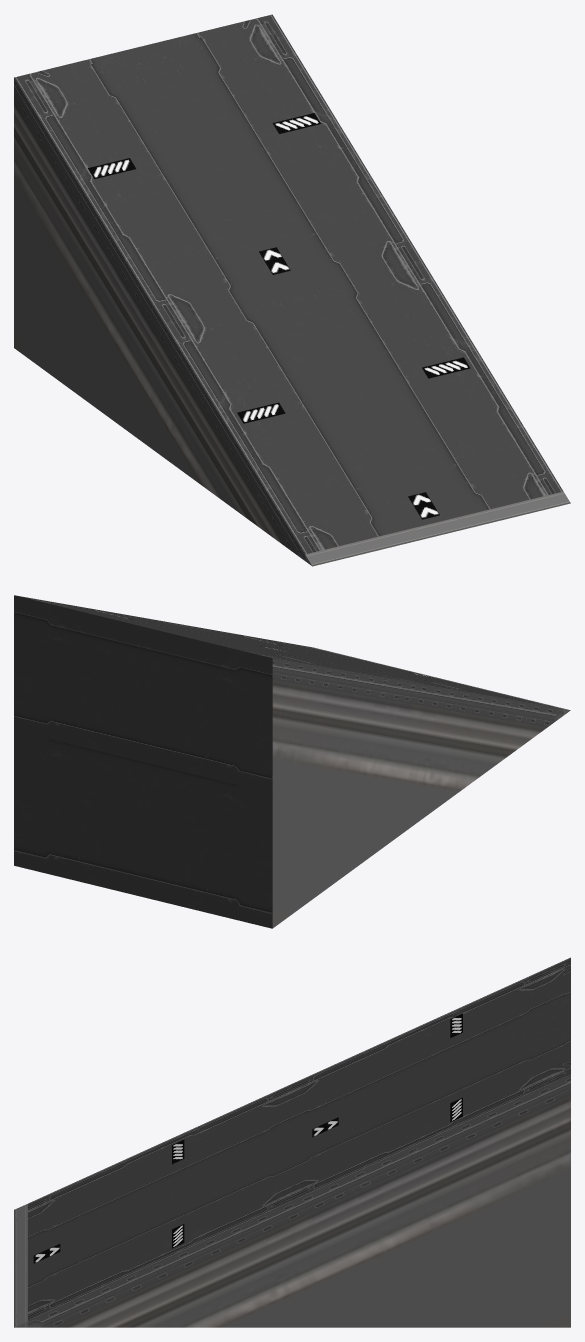
Rendered from platform_ramp_4.gltf.
3 renders of one model, top to bottom at view 1: azimuth 30°, elevation 25°; view 2: azimuth 150°, elevation 25°; view 3: azimuth 270°, elevation 25°, orthographic. The views are drawn at different scales.
Visible parts, largest first — view 1: Platform_Ramp_4; view 2: Platform_Ramp_4; view 3: Platform_Ramp_4.
Part boxes in pixels (x1,y1,x2,y2): Platform_Ramp_4: [14, 14, 570, 566]; Platform_Ramp_4: [14, 595, 570, 928]; Platform_Ramp_4: [14, 957, 570, 1327].
Bounding box in the file's own units: 2 × 2 × 4.
Materials: 3 (3 with a texture image).
